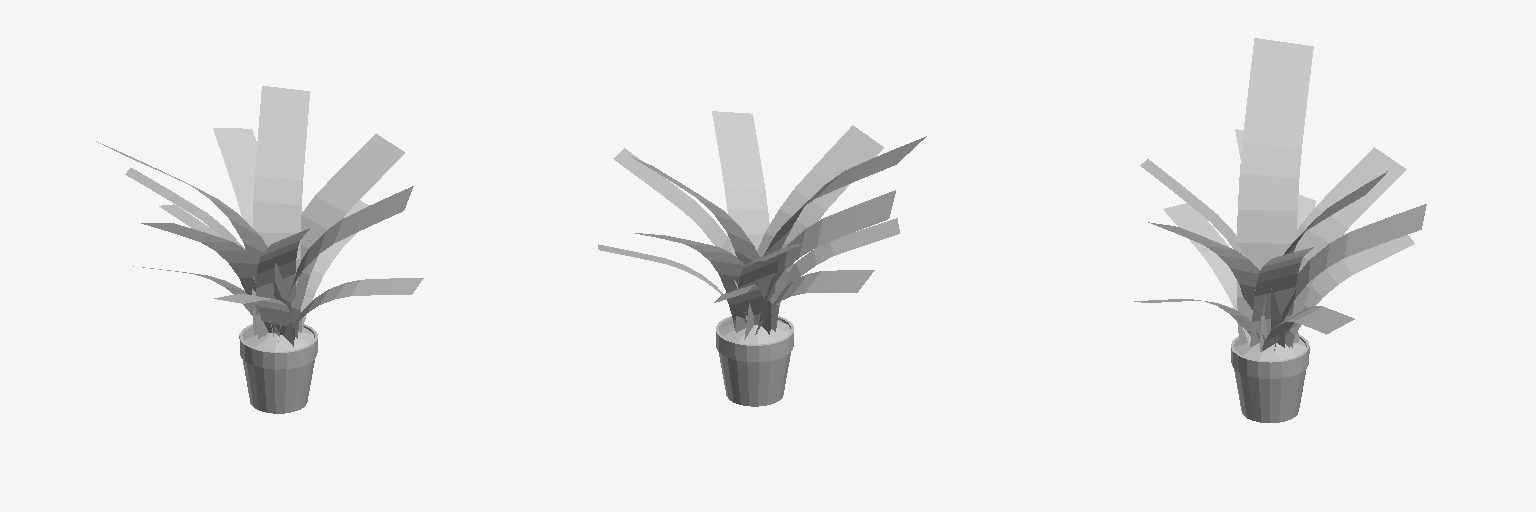
File: house_plant.obj
The picture shows the model from 3 angles: view 1: azimuth 30°, elevation 25°; view 2: azimuth 150°, elevation 25°; view 3: azimuth 270°, elevation 25°; orthographic projection.
Parts seen in each view (by area): view 1: polySurface9; view 2: polySurface9; view 3: polySurface9.
Part boxes in pixels (x1,y1,x2,y2): polySurface9: (96,86,423,413); polySurface9: (598,111,926,406); polySurface9: (1134,38,1426,422).
Size of the model in its own units: 59.45 by 56.73 by 51.6.